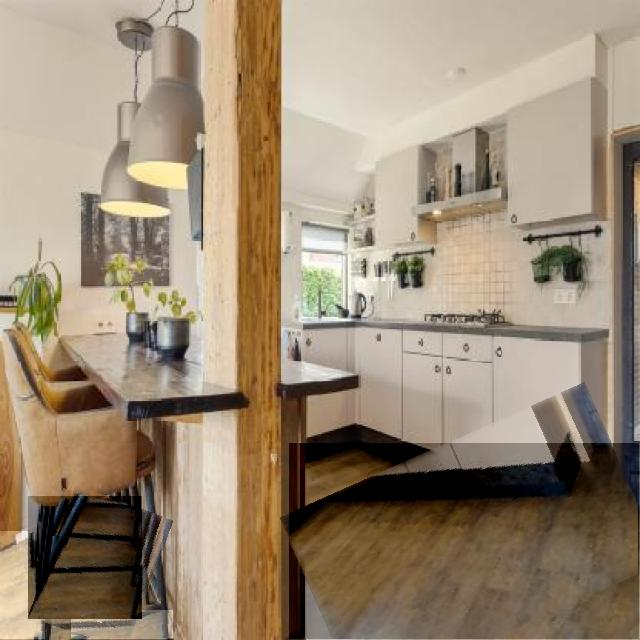floor: (290, 443, 639, 640), (29, 496, 142, 619), (0, 532, 45, 639), (71, 610, 173, 639), (51, 505, 122, 534)
